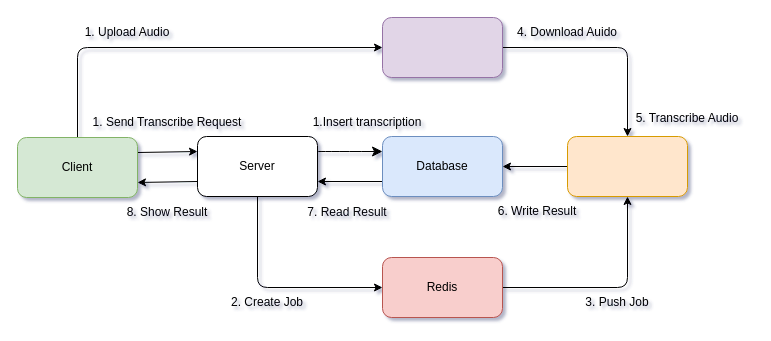
Image size: 771x341. Some labels were removed from this diagram. Each missing label, with the centre of its shape:
"Object Storage" goes at point 442,47.
"Python-Worker" goes at point 627,166.
